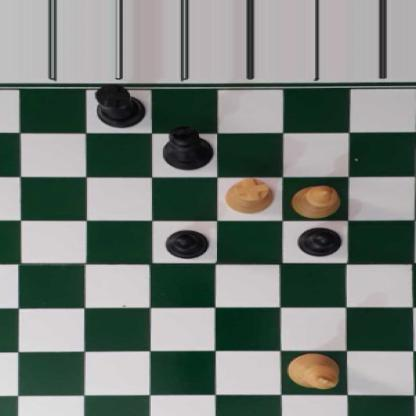black-king: (162, 125, 214, 171)
black-pawn: (162, 228, 210, 259), (297, 225, 341, 257)
black-rook: (91, 84, 149, 127)
white-bishop: (290, 185, 339, 219)
white-king: (285, 351, 340, 390)
white-rook: (224, 178, 275, 214)
